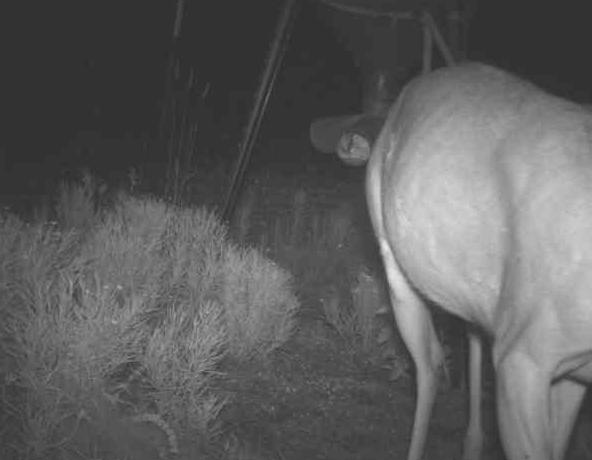Deer: (363, 62, 592, 460)
